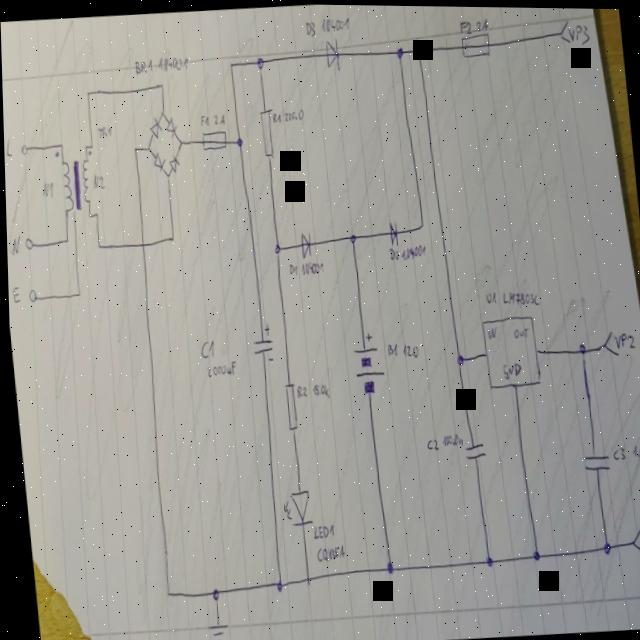capacitor: (247, 319, 273, 363), (578, 451, 608, 473), (460, 438, 483, 460)
crossover: (138, 239, 143, 247)
diode: (277, 487, 312, 527), (323, 35, 341, 70), (297, 229, 311, 258), (146, 115, 162, 138), (385, 217, 398, 245), (148, 149, 163, 170), (163, 114, 176, 136), (166, 153, 178, 171)
ground: (202, 620, 225, 640)
junction: (597, 536, 608, 554), (254, 53, 265, 71), (451, 349, 462, 366), (381, 557, 391, 573), (413, 40, 423, 56), (528, 545, 538, 560), (480, 551, 490, 566), (270, 577, 280, 592), (574, 339, 584, 354), (394, 44, 404, 59), (206, 585, 216, 600), (346, 229, 355, 244), (271, 240, 280, 255), (234, 134, 242, 146), (300, 571, 307, 583), (160, 587, 167, 599), (130, 143, 137, 153), (144, 143, 151, 152), (158, 107, 165, 116), (157, 80, 164, 88), (416, 219, 423, 227), (227, 59, 233, 68), (167, 232, 173, 241), (176, 137, 182, 146), (163, 171, 169, 179), (92, 210, 98, 218), (95, 241, 100, 249), (62, 236, 67, 244), (84, 89, 89, 97), (74, 289, 79, 297), (57, 141, 62, 149), (86, 211, 91, 217), (88, 142, 92, 148), (82, 142, 86, 148)
resistor: (257, 106, 274, 158), (280, 379, 295, 430)
source: (347, 327, 385, 393)
terminal: (625, 517, 640, 558), (597, 328, 615, 354), (557, 17, 571, 42), (21, 235, 32, 250), (25, 287, 35, 302), (19, 142, 27, 154)
text: (498, 284, 539, 306), (310, 539, 342, 562), (155, 52, 189, 73), (319, 12, 350, 34), (203, 358, 235, 378), (566, 21, 590, 44), (398, 242, 425, 260), (308, 520, 332, 540), (297, 258, 323, 276), (611, 328, 633, 349), (498, 358, 520, 377), (133, 56, 153, 76), (437, 430, 461, 446), (309, 380, 328, 400), (196, 337, 213, 359), (282, 105, 304, 122), (38, 178, 54, 199), (6, 233, 20, 255), (399, 341, 417, 358), (627, 439, 640, 460), (383, 338, 397, 357), (303, 18, 317, 37), (510, 322, 526, 338), (94, 123, 111, 138), (474, 14, 489, 31), (3, 133, 13, 158), (90, 172, 104, 189), (609, 443, 623, 460), (458, 17, 472, 33), (292, 381, 305, 398), (482, 287, 495, 304), (9, 284, 19, 305), (422, 436, 437, 450), (212, 111, 225, 126), (285, 259, 297, 275), (386, 244, 398, 260), (482, 323, 495, 337), (197, 112, 209, 127), (270, 110, 281, 124), (638, 528, 640, 552)
transformer: (57, 155, 92, 214)
